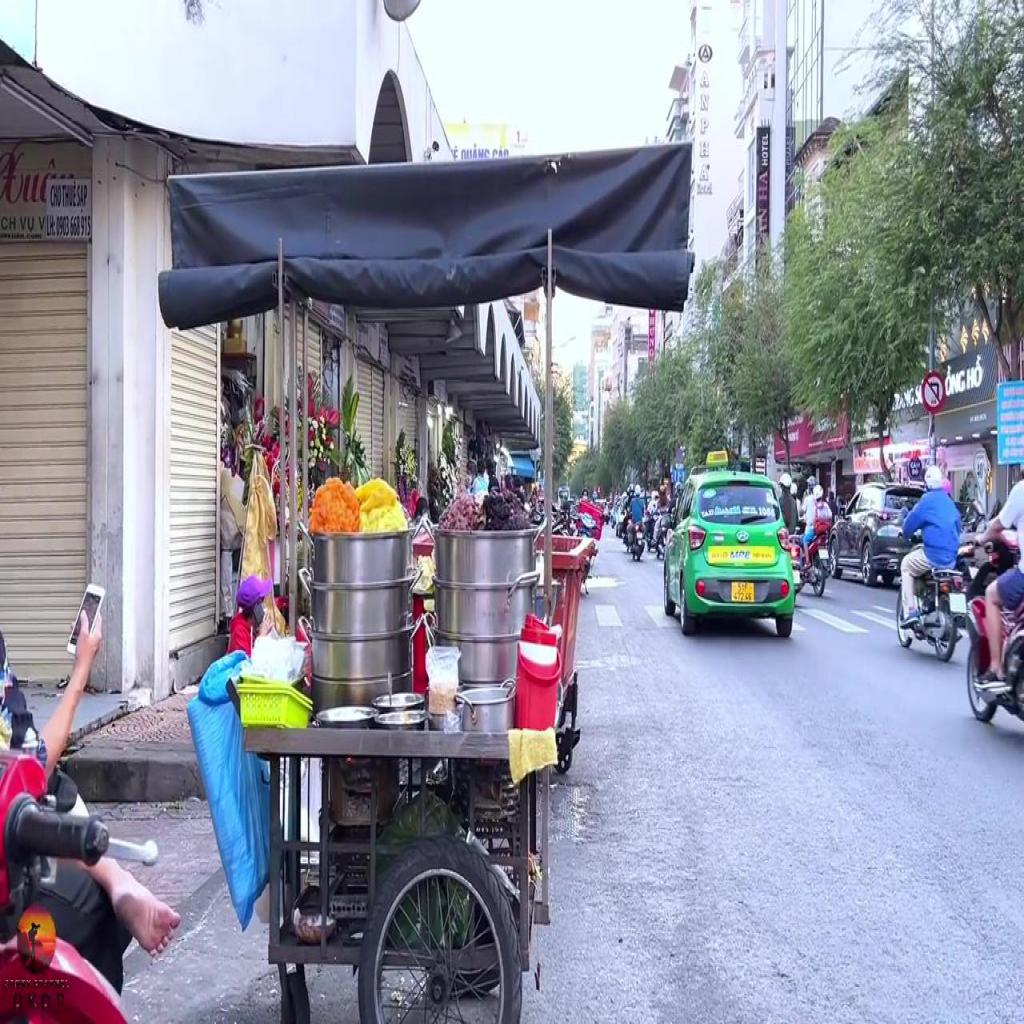cam_o_to_re_trai: (921, 372, 946, 412)
